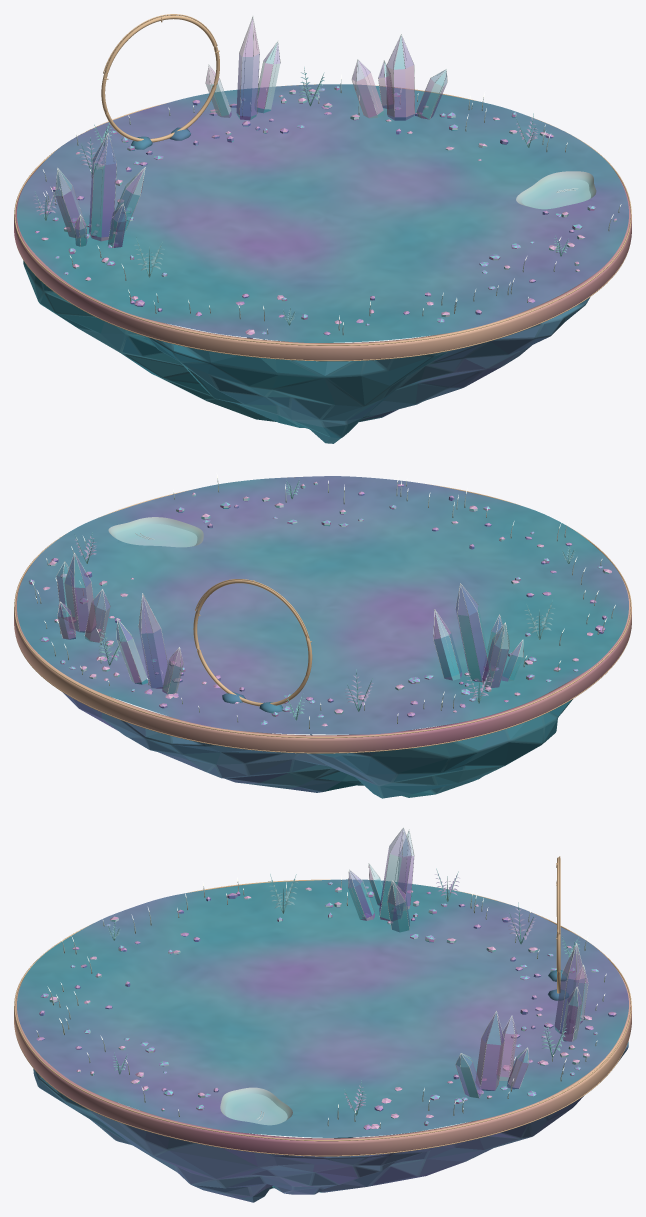
File: island.glb
3 views of the same model, one above another, from view 1: azimuth 30°, elevation 25°; view 2: azimuth 150°, elevation 25°; view 3: azimuth 270°, elevation 25° (orthographic).
Visible parts, largest first — view 1: Island_Surface | Opalescent planting clearing, Island_Crystal_Underside | Connected fractured mineral forma, Island_Metal_Rim | Rolled rose-gold edge, Island_Accents | Scattered opal gravel, Island_Metal_Rim | Champagne hairlines, Island_Peripheral_Crystals | Cluster 1 facet family 1, Island_Vegetation | Ferns and bent grasses, Island_Peripheral_Crystals | Polished facet edges, Island_Peripheral_Crystals | Cluster 2 facet family 1, Island_Pond | Recessed mineral basin, Island_Peripheral_Crystals | Cluster 3 facet family 1, Island_Ornamental_Ring | Fine golden resonator (+7 smaller); view 2: Island_Surface | Opalescent planting clearing, Island_Crystal_Underside | Connected fractured mineral forma, Island_Metal_Rim | Rolled rose-gold edge, Island_Accents | Scattered opal gravel, Island_Metal_Rim | Champagne hairlines, Island_Peripheral_Crystals | Cluster 1 facet family 1, Island_Vegetation | Ferns and bent grasses, Island_Pond | Recessed mineral basin, Island_Peripheral_Crystals | Polished facet edges, Island_Peripheral_Crystals | Cluster 2 facet family 1, Island_Peripheral_Crystals | Cluster 3 facet family 1, Island_Ornamental_Ring | Fine golden resonator (+7 smaller); view 3: Island_Surface | Opalescent planting clearing, Island_Crystal_Underside | Connected fractured mineral forma, Island_Metal_Rim | Rolled rose-gold edge, Island_Accents | Scattered opal gravel, Island_Metal_Rim | Champagne hairlines, Island_Peripheral_Crystals | Cluster 1 facet family 1, Island_Vegetation | Ferns and bent grasses, Island_Peripheral_Crystals | Cluster 2 facet family 1, Island_Peripheral_Crystals | Polished facet edges, Island_Pond | Recessed mineral basin, Island_Peripheral_Crystals | Cluster 3 facet family 1, Island_Pond | Single aqua water sheet (+6 smaller).
Part boxes in pixels (x1=…): Island_Surface | Opalescent planting clearing: x1=17, y1=84, x2=628, y2=342; Island_Crystal_Underside | Connected fractured mineral forma: x1=23, y1=260, x2=590, y2=443; Island_Metal_Rim | Rolled rose-gold edge: x1=14, y1=163, x2=631, y2=360; Island_Accents | Scattered opal gravel: x1=35, y1=86, x2=616, y2=338; Island_Metal_Rim | Champagne hairlines: x1=14, y1=84, x2=631, y2=361; Island_Peripheral_Crystals | Cluster 1 facet family 1: x1=89, y1=135, x2=126, y2=247; Island_Vegetation | Ferns and bent grasses: x1=33, y1=67, x2=619, y2=335; Island_Peripheral_Crystals | Polished facet edges: x1=55, y1=16, x2=447, y2=247; Island_Peripheral_Crystals | Cluster 2 facet family 1: x1=378, y1=36, x2=414, y2=120; Island_Pond | Recessed mineral basin: x1=516, y1=171, x2=596, y2=208; Island_Peripheral_Crystals | Cluster 3 facet family 1: x1=236, y1=19, x2=259, y2=120; Island_Ornamental_Ring | Fine golden resonator: x1=101, y1=14, x2=219, y2=142; Island_Surface | Opalescent planting clearing: x1=17, y1=476, x2=628, y2=734; Island_Crystal_Underside | Connected fractured mineral forma: x1=62, y1=692, x2=572, y2=798; Island_Metal_Rim | Rolled rose-gold edge: x1=14, y1=568, x2=631, y2=752; Island_Accents | Scattered opal gravel: x1=28, y1=482, x2=611, y2=726; Island_Metal_Rim | Champagne hairlines: x1=14, y1=477, x2=631, y2=753; Island_Peripheral_Crystals | Cluster 1 facet family 1: x1=456, y1=585, x2=504, y2=682; Island_Vegetation | Ferns and bent grasses: x1=33, y1=478, x2=613, y2=728; Island_Pond | Recessed mineral basin: x1=108, y1=517, x2=203, y2=546; Island_Peripheral_Crystals | Polished facet edges: x1=56, y1=552, x2=523, y2=693; Island_Peripheral_Crystals | Cluster 2 facet family 1: x1=57, y1=554, x2=95, y2=639; Island_Peripheral_Crystals | Cluster 3 facet family 1: x1=138, y1=595, x2=170, y2=688; Island_Ornamental_Ring | Fine golden resonator: x1=193, y1=579, x2=312, y2=706; Island_Surface | Opalescent planting clearing: x1=17, y1=879, x2=628, y2=1137; Island_Crystal_Underside | Connected fractured mineral forma: x1=33, y1=1041, x2=628, y2=1202; Island_Metal_Rim | Rolled rose-gold edge: x1=14, y1=886, x2=631, y2=1155; Island_Accents | Scattered opal gravel: x1=36, y1=882, x2=616, y2=1129; Island_Metal_Rim | Champagne hairlines: x1=14, y1=879, x2=631, y2=1156; Island_Peripheral_Crystals | Cluster 1 facet family 1: x1=348, y1=829, x2=411, y2=920; Island_Vegetation | Ferns and bent grasses: x1=37, y1=868, x2=605, y2=1128; Island_Peripheral_Crystals | Cluster 2 facet family 1: x1=475, y1=1013, x2=528, y2=1090; Island_Peripheral_Crystals | Polished facet edges: x1=348, y1=827, x2=588, y2=1097; Island_Pond | Recessed mineral basin: x1=220, y1=1087, x2=292, y2=1124; Island_Peripheral_Crystals | Cluster 3 facet family 1: x1=554, y1=946, x2=585, y2=1033; Island_Pond | Single aqua water sheet: x1=225, y1=1093, x2=287, y2=1125.
Size of the model in its own units: 8.01 by 4.51 by 8.01.
